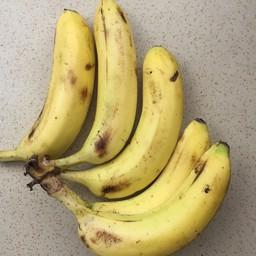Banana Ripe: (26, 143, 254, 256), (50, 92, 225, 215), (68, 37, 189, 214), (63, 4, 147, 185), (8, 10, 85, 184)
